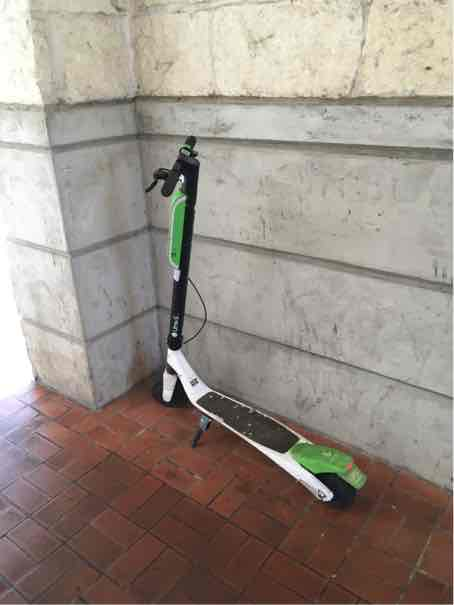scooter: (134, 122, 373, 510)
